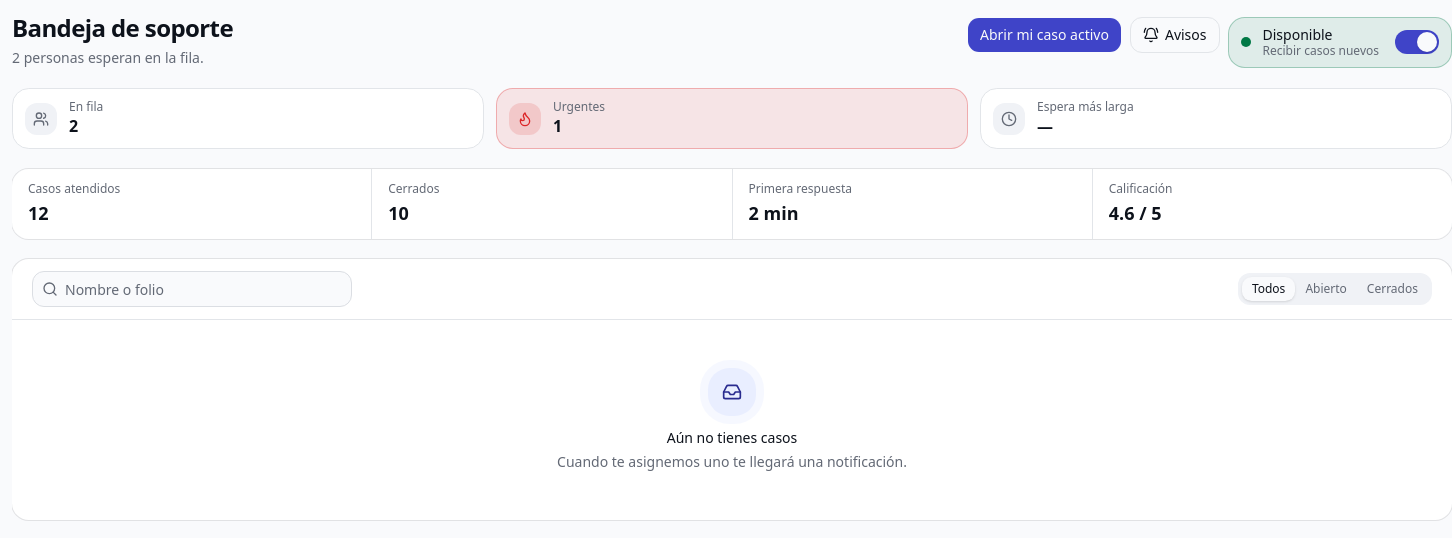
it: the agent's toolbar › pauses new cases and says so
What coordinates should you click on to do the following:
click the switch named "Disponible"
I would click on:
 (1417, 42)
Its box is [1395,30,1439,54].
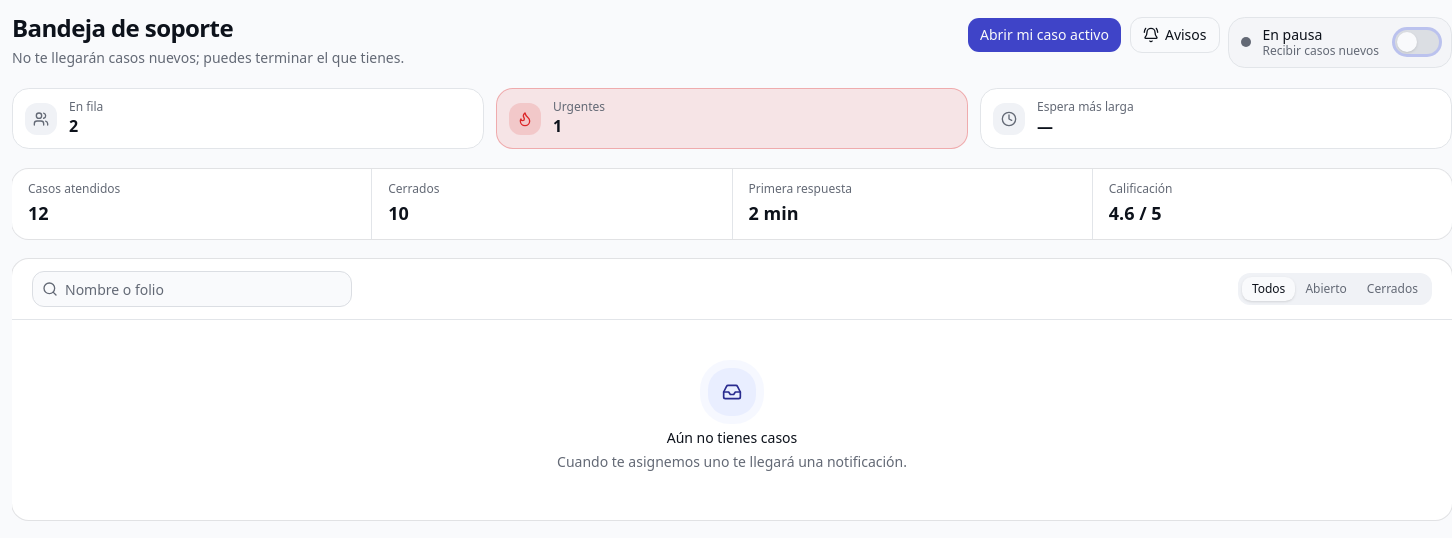
Result: the switch named "En pausa" is not checked at [1395,30,1439,54]
Result: the text "No te llegarán casos nuevos; puedes terminar el que tienes." is shown at [12,48,404,68]
